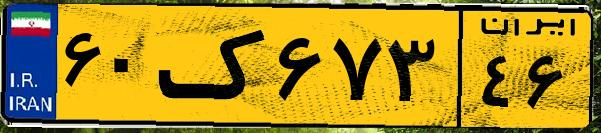0: (110, 28, 158, 98)
3: (385, 28, 445, 110)
4: (475, 38, 525, 113)
6: (270, 28, 330, 110), (57, 26, 110, 100), (525, 38, 570, 115)
7: (330, 28, 385, 110)
ک: (158, 12, 270, 120)
